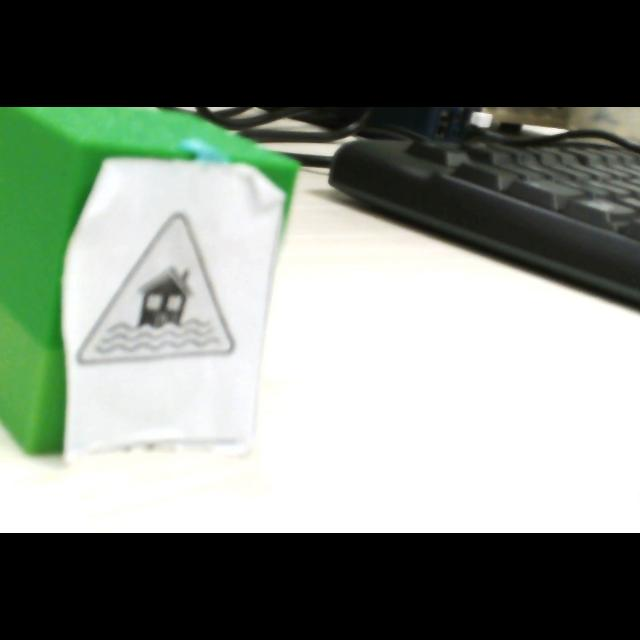Tsunami: (78, 213, 234, 365)
